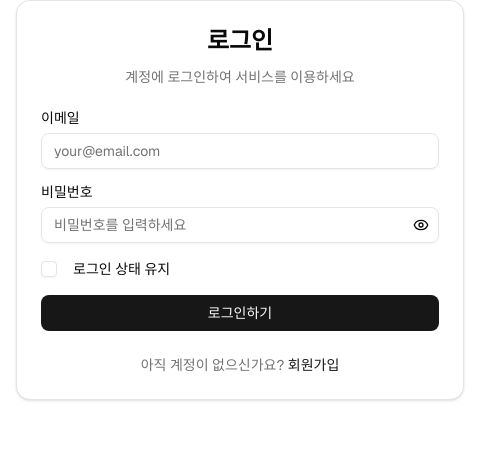
Test: LoginForm › 빈 입력으로 제출 시 클라이언트 검증 에러를 표시한다
What coordinates should you click on to do the following:
click the button "로그인하기"
I would click on:
 (240, 313)
Its box is [41,295,439,331].
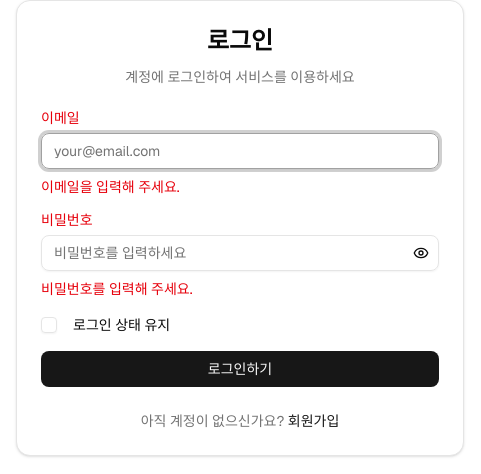
Expected: the text "이메일을 입력해 주세요." is shown, [41,178,180,196]
Expected: the text "비밀번호를 입력해 주세요." is shown, [41,280,192,298]
